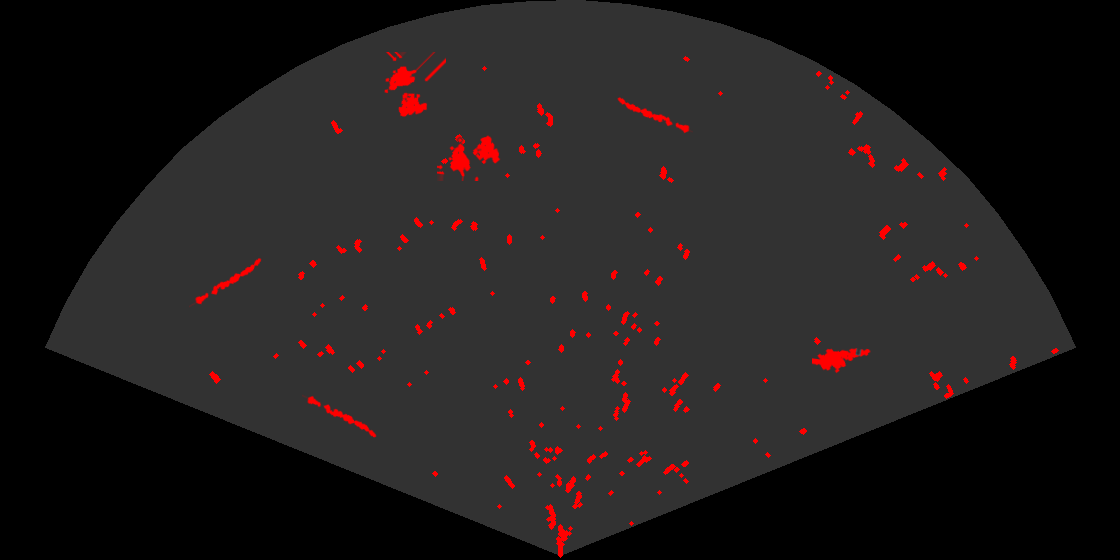cage: (383, 52, 446, 119), (437, 134, 502, 181)
chain: (189, 256, 263, 309), (302, 393, 378, 439), (615, 96, 693, 135)
frogman: (812, 346, 871, 375)
